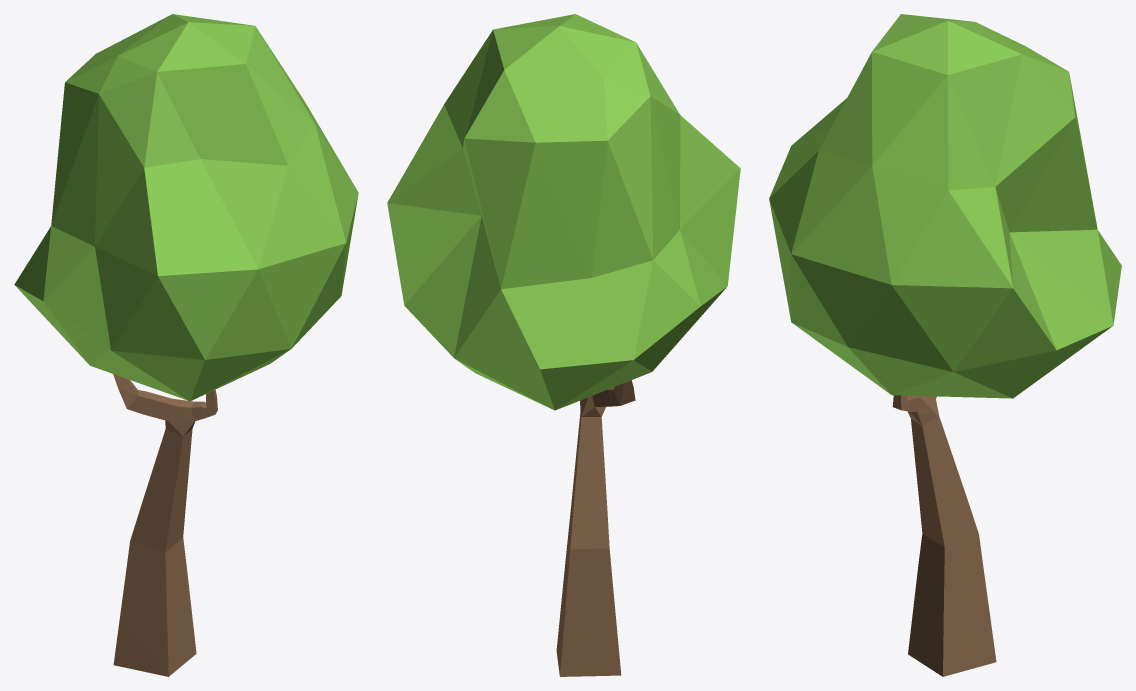
Rendered from tree03.fbx.
The picture shows the model from 3 angles, left to right: view 1: azimuth 30°, elevation 25°; view 2: azimuth 150°, elevation 25°; view 3: azimuth 270°, elevation 25°; orthographic projection. The views are drawn at different scales.
Parts seen in each view (by area): view 1: tree03_LOD0; view 2: tree03_LOD0; view 3: tree03_LOD0.
Part boxes in pixels (x1,y1,x2,y2): tree03_LOD0: (14, 14, 358, 676); tree03_LOD0: (387, 14, 740, 676); tree03_LOD0: (769, 14, 1121, 676).
Size of what is drawn, in the model's own units: 202 by 426 by 209.
